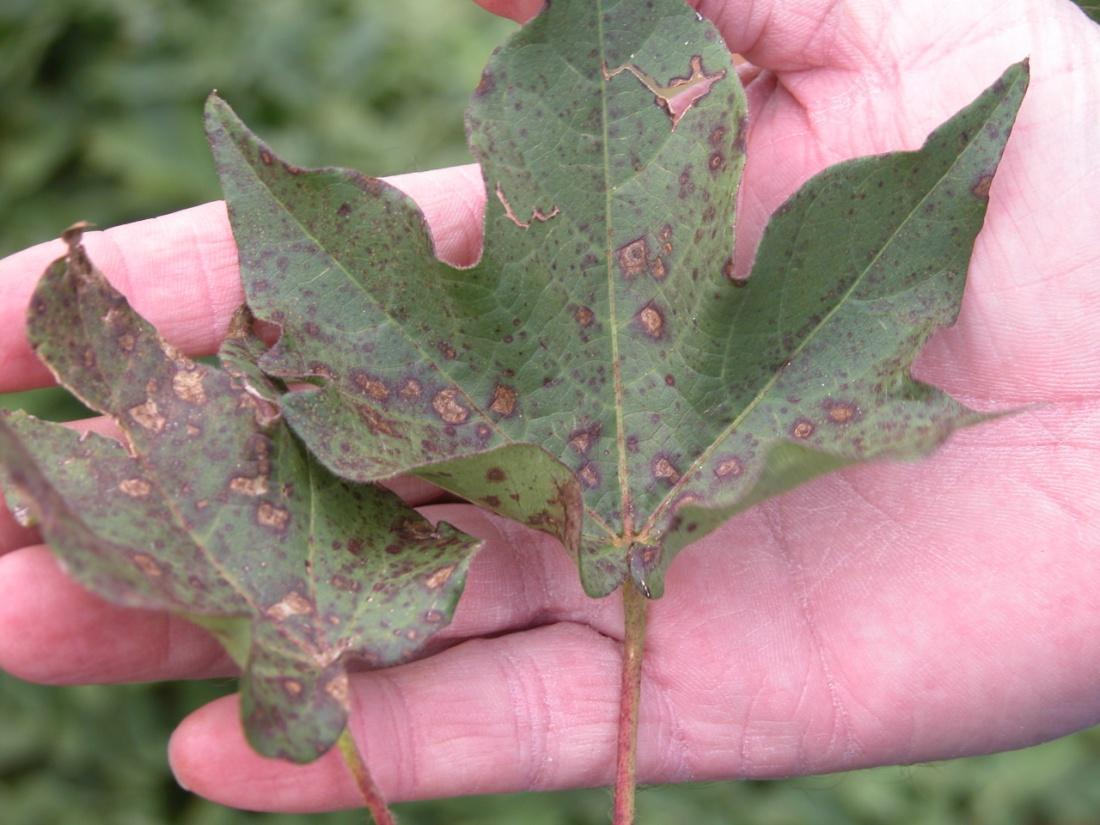black-spot: (598, 183, 702, 383)
